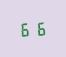six: (19, 20, 32, 37), (33, 19, 46, 36)
